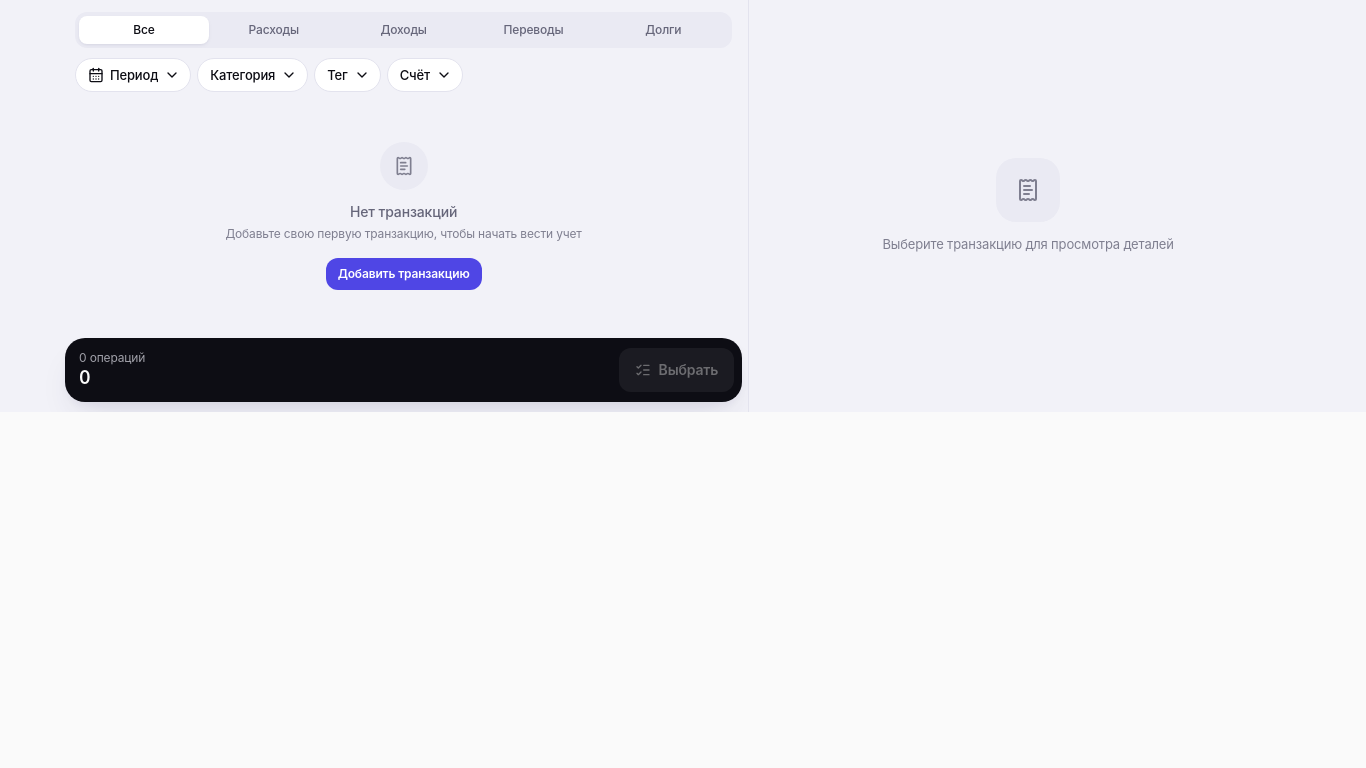
Test: HistoryPage › facet chips › opening › closing button hides the sheet
Click the button with test id "facet-chip-category".
click(253, 75)  # box x1=198 y1=59 x2=307 y2=91
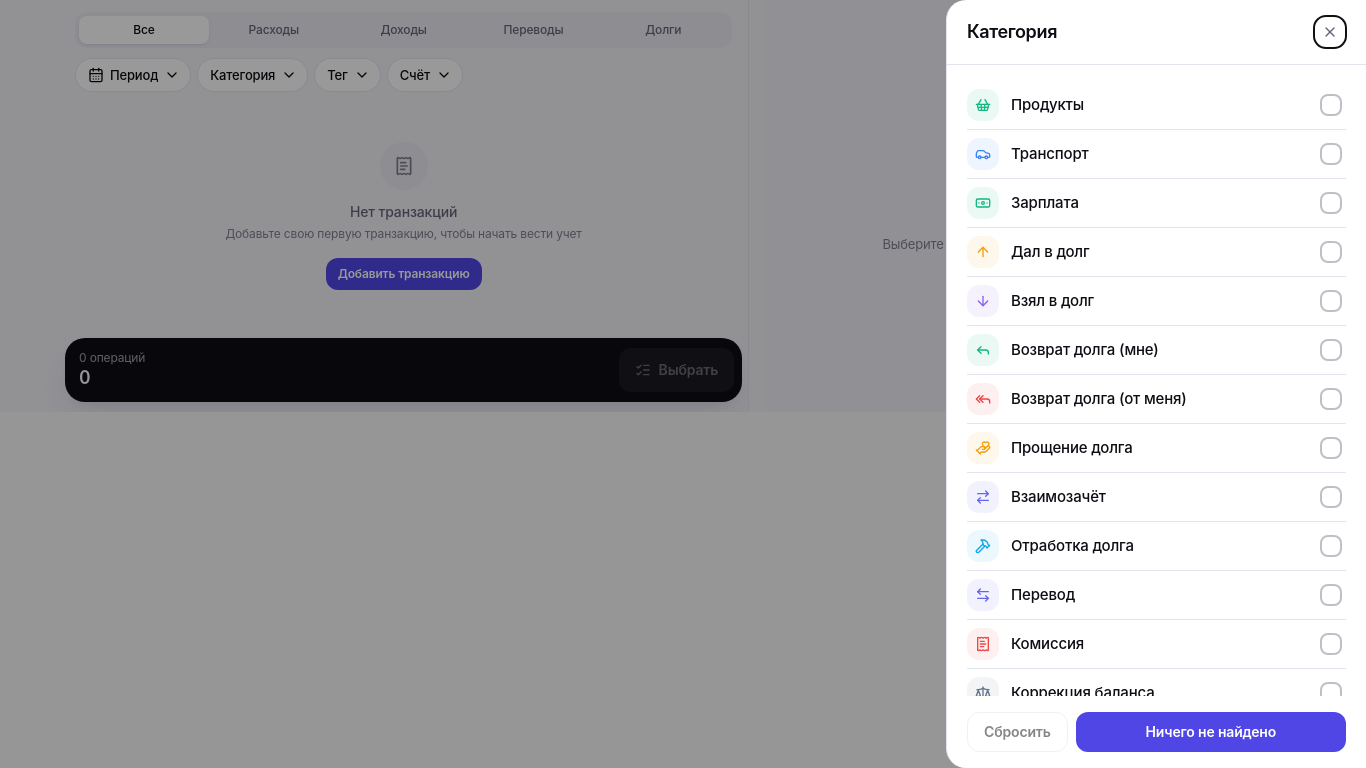
Click the button with test id "facet-show".
click(1211, 732)  # box x1=1076 y1=712 x2=1346 y2=752
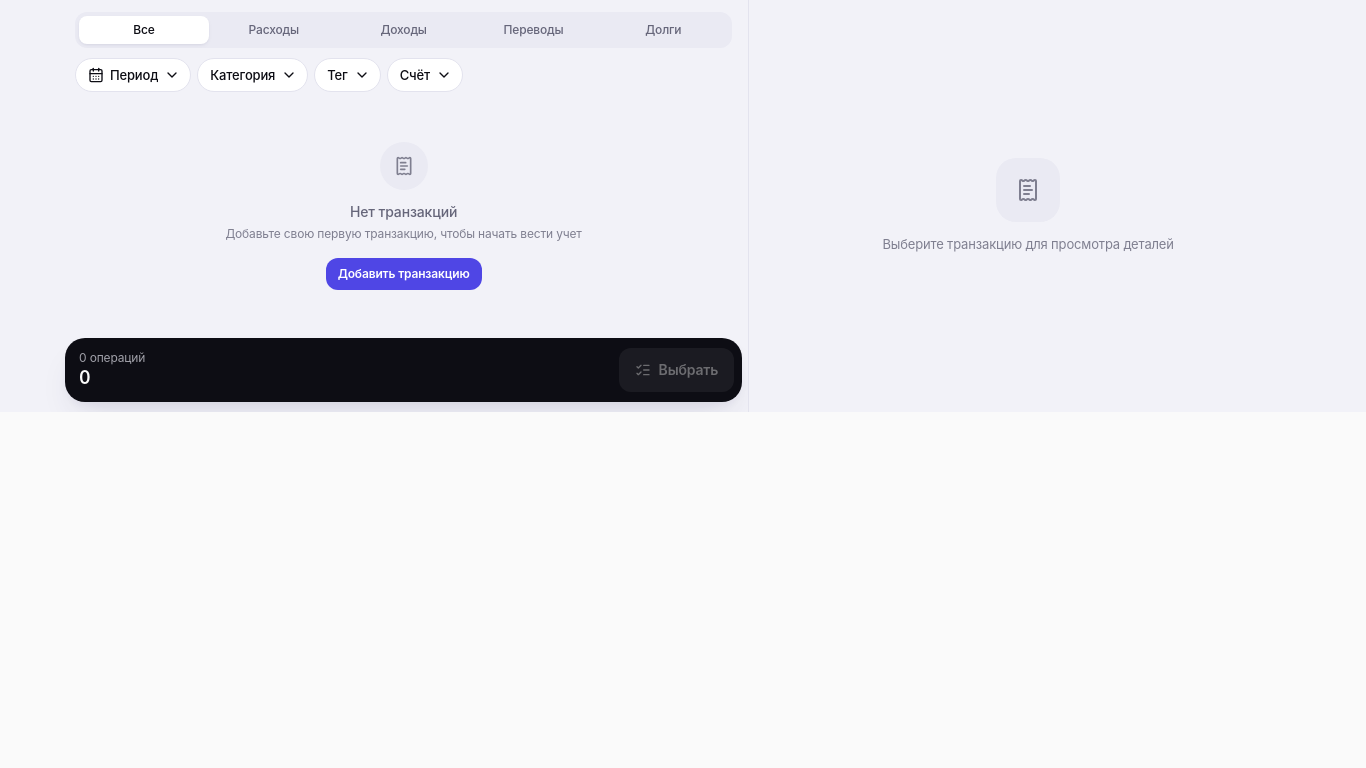
Now the element with test id "history-facet-sheet" is gone
